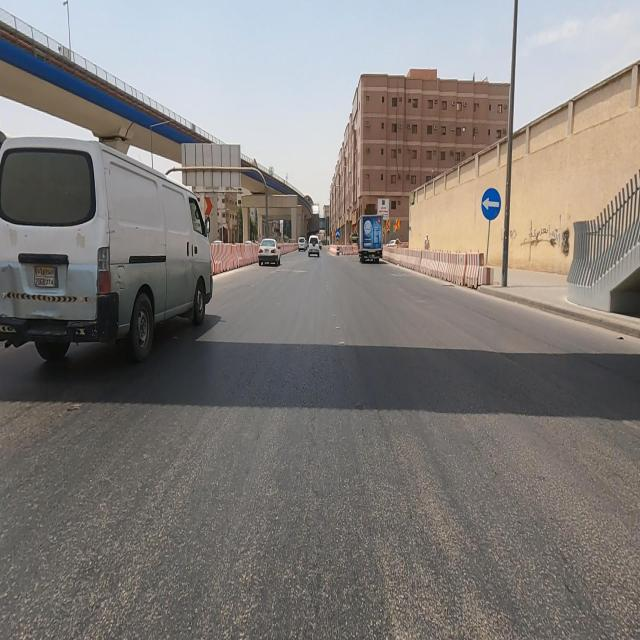Graffiti: (525, 215, 571, 258), (511, 230, 519, 247), (500, 230, 505, 245)
